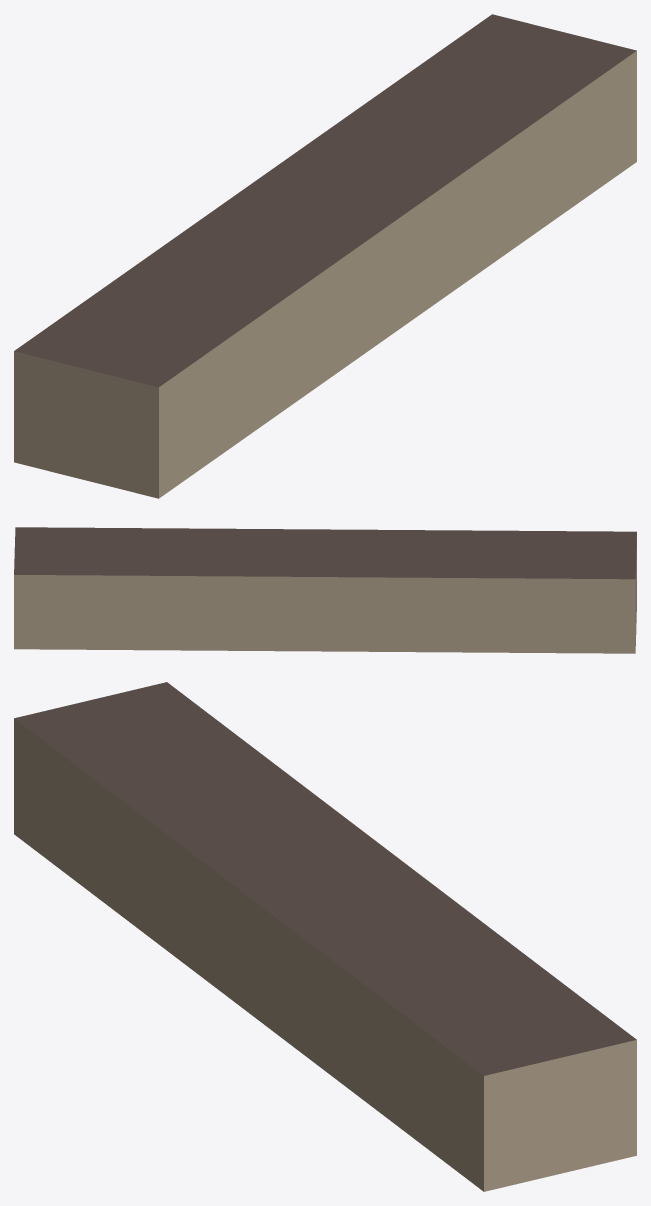
The picture shows the model from 3 angles, top to bottom: view 1: azimuth 30°, elevation 25°; view 2: azimuth 150°, elevation 25°; view 3: azimuth 270°, elevation 25°; orthographic projection. The views are drawn at different scales.
Visible parts, largest first — view 1: HP-w859457454; view 2: HP-w859457454; view 3: HP-w859457454.
Part boxes in pixels (x1,y1,x2,y2): HP-w859457454: [14, 14, 636, 498]; HP-w859457454: [14, 527, 636, 653]; HP-w859457454: [14, 682, 636, 1191].
Size of the model in its own units: 65.58 by 9 by 43.83.
